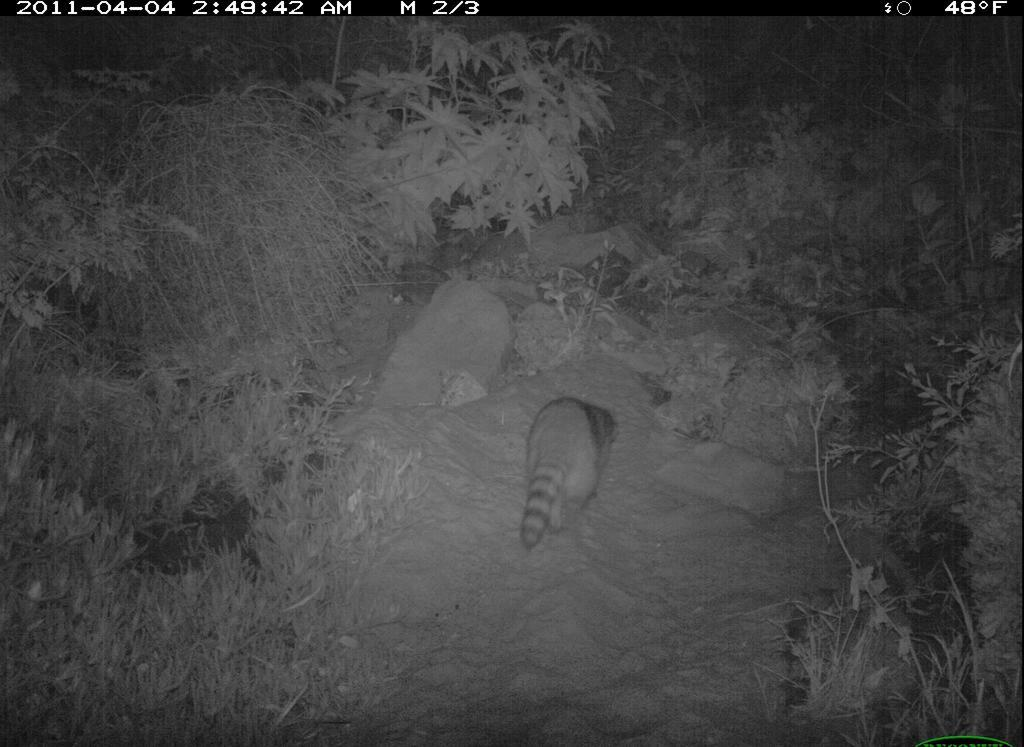raccoon: (516, 392, 625, 557)
